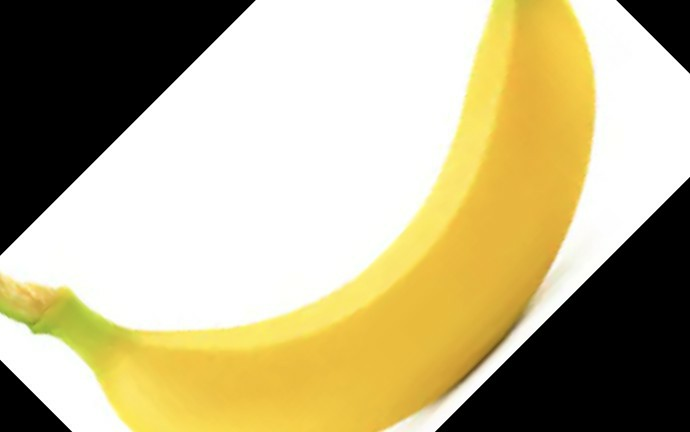fresh_banana: (33, 1, 598, 432)
